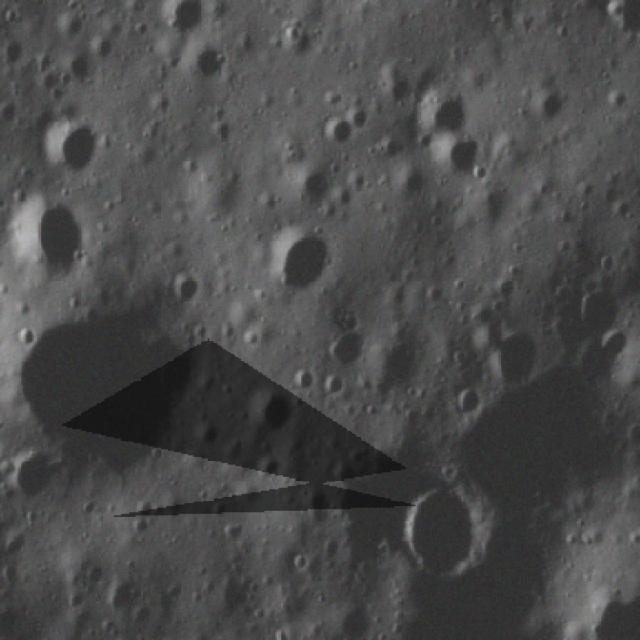crater: (17, 294, 201, 472), (401, 470, 492, 578), (13, 198, 96, 278), (43, 111, 112, 182), (270, 230, 338, 299), (568, 273, 630, 339), (488, 320, 542, 388), (7, 441, 65, 502), (325, 316, 370, 372), (440, 129, 482, 189), (249, 388, 297, 434), (334, 597, 384, 640), (167, 265, 208, 310), (427, 90, 468, 132), (164, 3, 208, 42), (447, 382, 485, 426), (186, 49, 231, 86), (531, 83, 567, 129), (60, 49, 98, 89), (320, 113, 358, 152), (296, 168, 327, 212), (88, 33, 126, 64), (59, 10, 90, 41), (282, 366, 318, 392), (318, 365, 340, 398)
